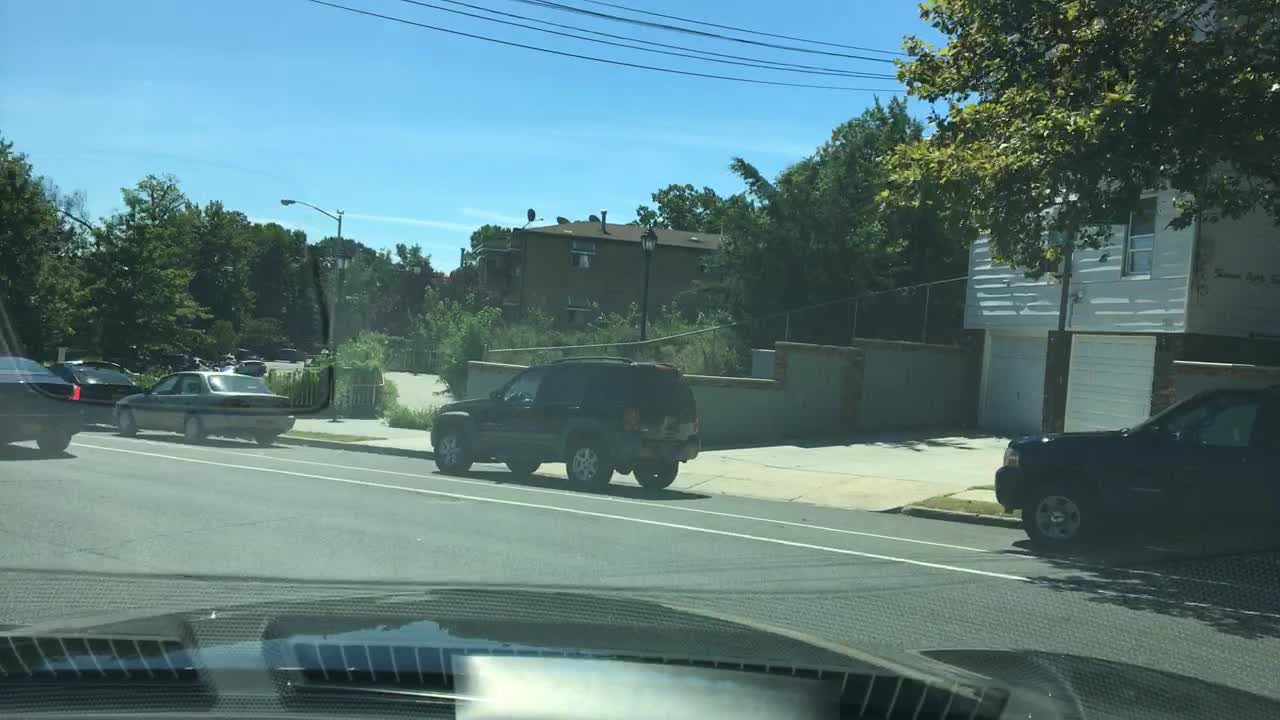car: (990, 380, 1279, 557), (420, 352, 702, 492), (111, 365, 300, 447), (0, 351, 86, 463), (41, 357, 140, 432), (182, 349, 228, 370), (226, 349, 266, 370), (266, 344, 310, 363), (235, 345, 266, 365)
